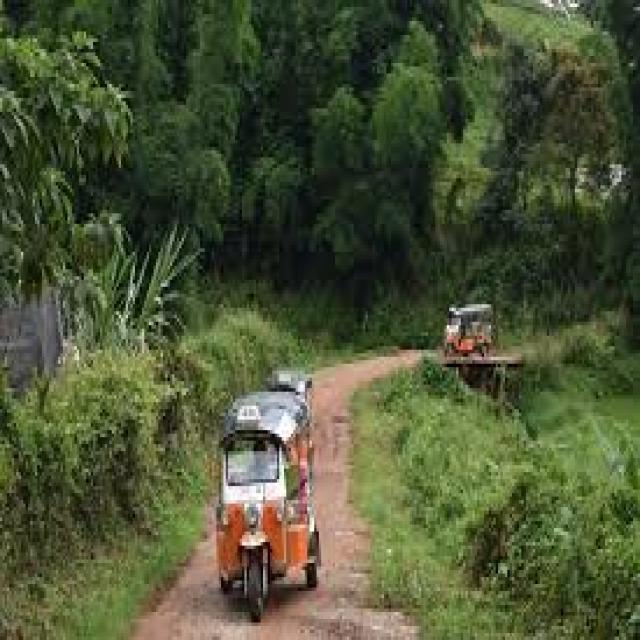tuktuk: (186, 171, 336, 633)
